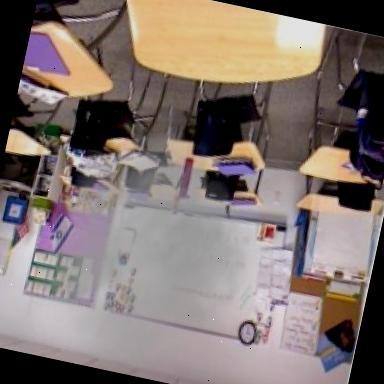smoke: (34, 95, 225, 321)
